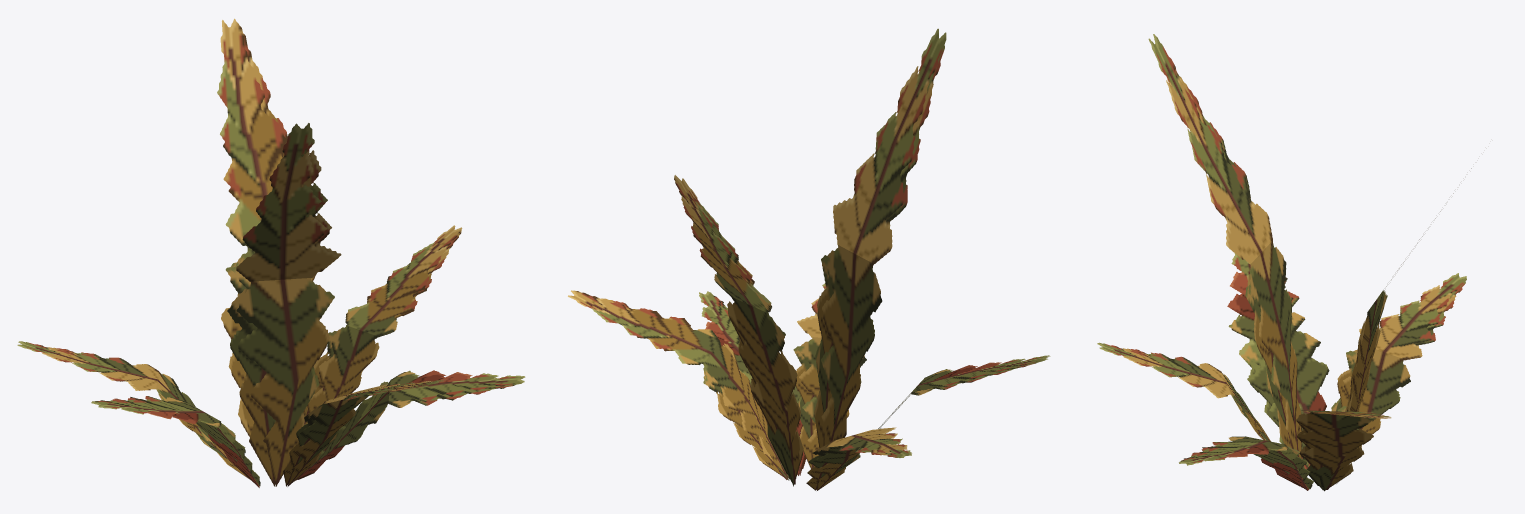
Rendered from SM_VG02_FernTall.fbx.
3 renders of one model, left to right at view 1: azimuth 30°, elevation 25°; view 2: azimuth 150°, elevation 25°; view 3: azimuth 270°, elevation 25°, orthographic. The views are drawn at different scales.
Visible parts, largest first — view 1: VG02_Fronds; view 2: VG02_Fronds; view 3: VG02_Fronds.
Boxes of the visible parts, left/top/right/bottom form: VG02_Fronds: left=17, top=18, right=525, bottom=487; VG02_Fronds: left=568, top=28, right=1050, bottom=490; VG02_Fronds: left=1097, top=34, right=1471, bottom=491.
Bounding box in the file's own units: 0.8399 × 0.7702 × 0.6951.
